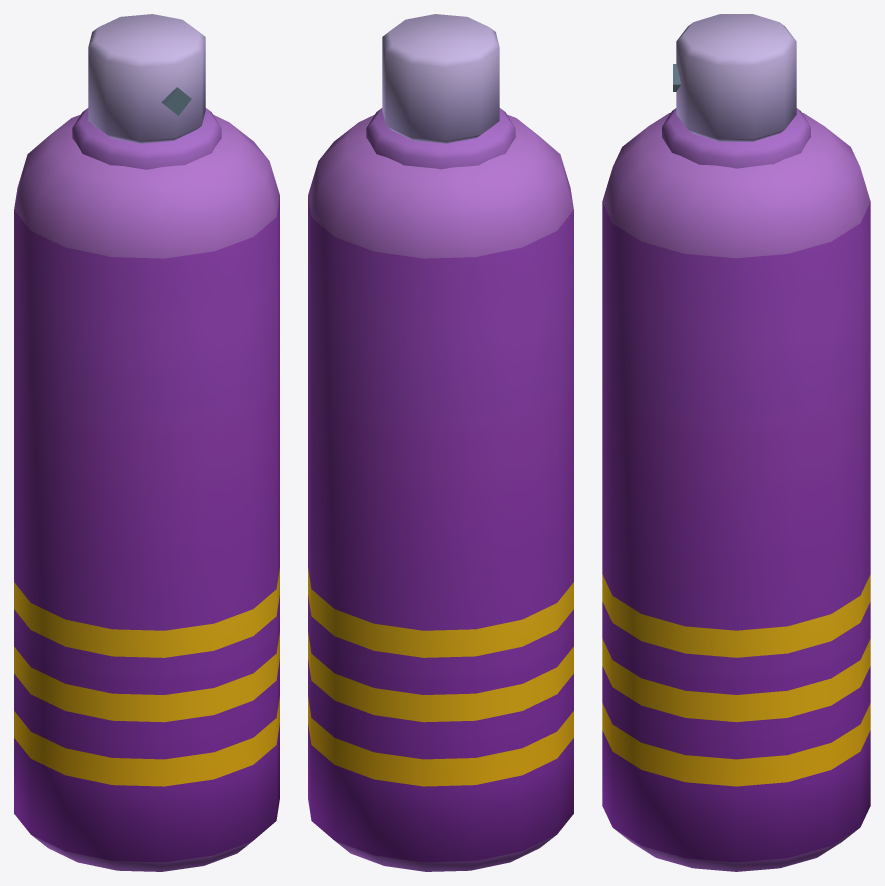
Rendered from Cream_06.glb.
The picture shows the model from 3 angles, left to right: view 1: azimuth 30°, elevation 25°; view 2: azimuth 150°, elevation 25°; view 3: azimuth 270°, elevation 25°; orthographic projection.
Parts seen in each view (by area): view 1: Cream_06; view 2: Cream_06; view 3: Cream_06.
Part boxes in pixels (box(x1,y1,x2,y2)): Cream_06: box(14, 14, 279, 871); Cream_06: box(308, 14, 573, 871); Cream_06: box(602, 14, 870, 871).
Bounding box in the file's own units: 0.0677 × 0.2196 × 0.0677.
Materials: 1 (1 with a texture image).
